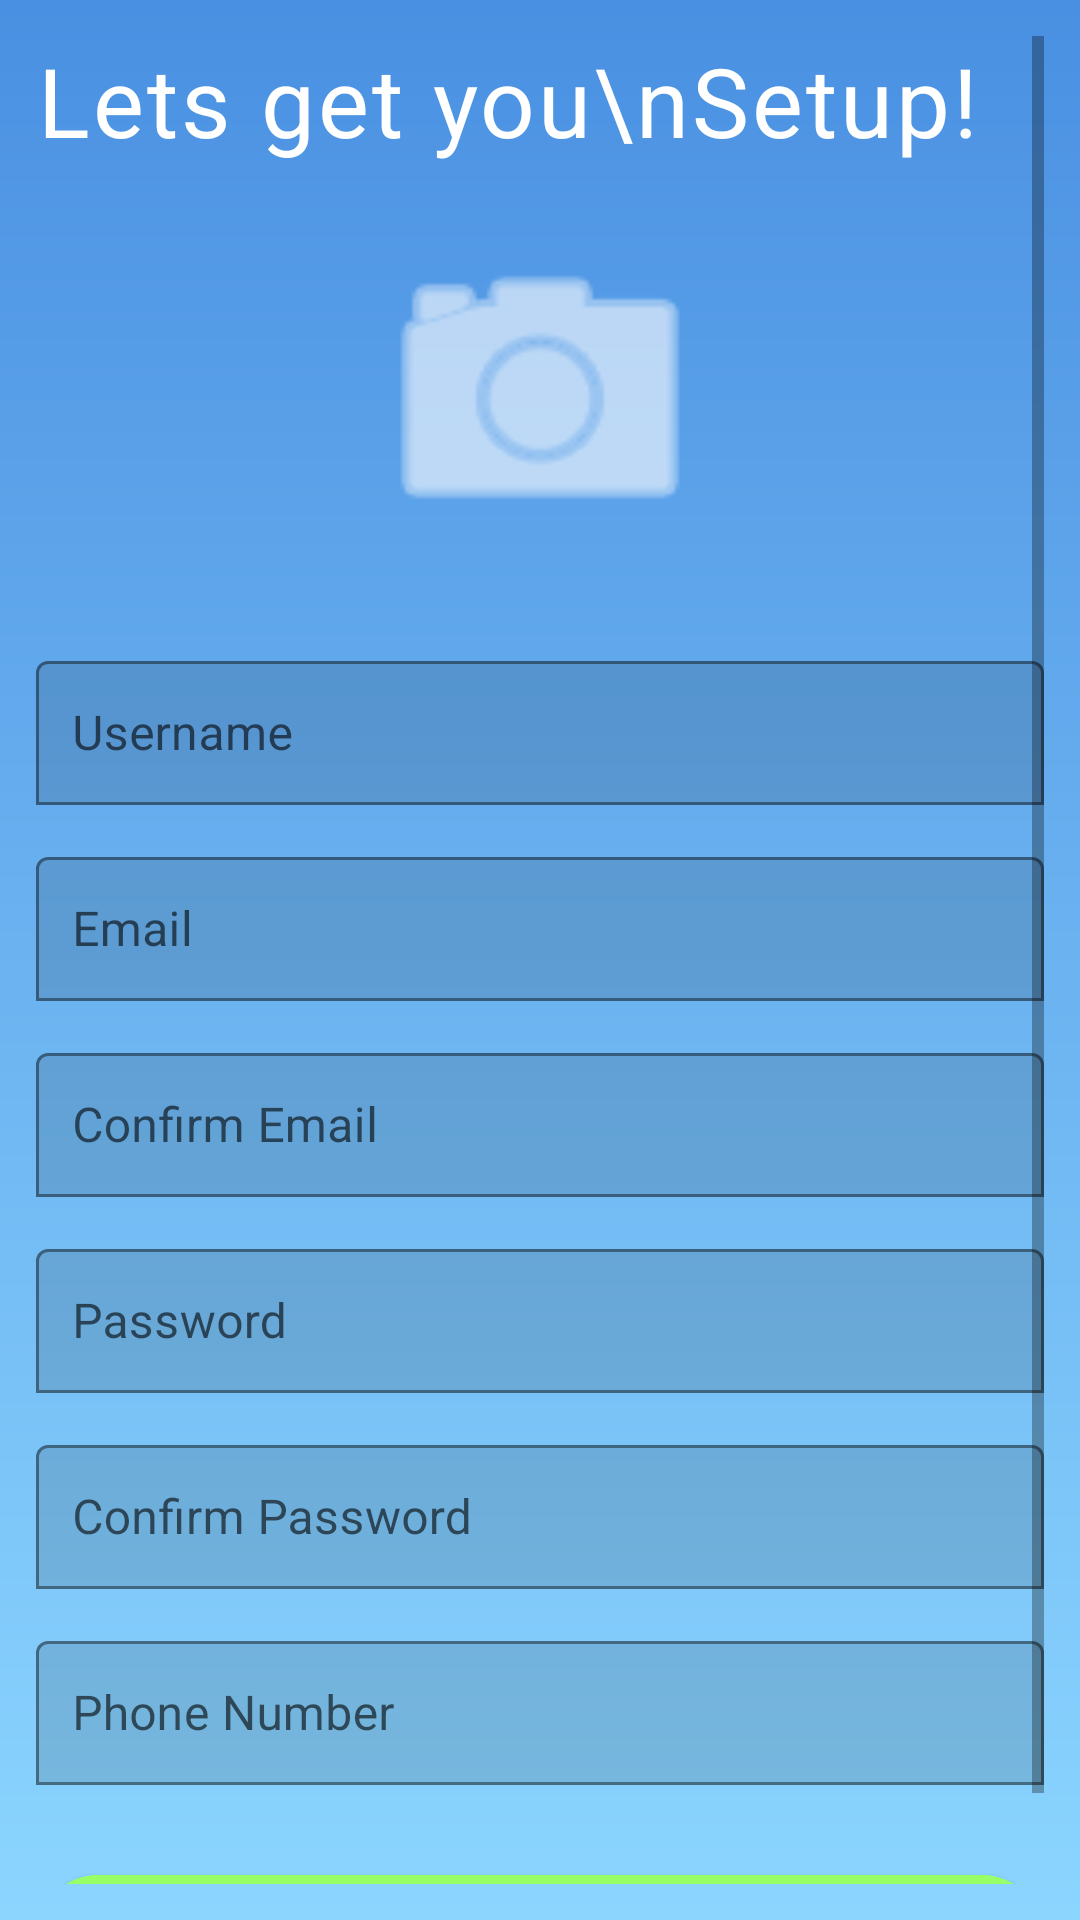

Point at icon controls on the screen. Image size 1080w x 1920h, points as [x,y].
camera: [540,388]
